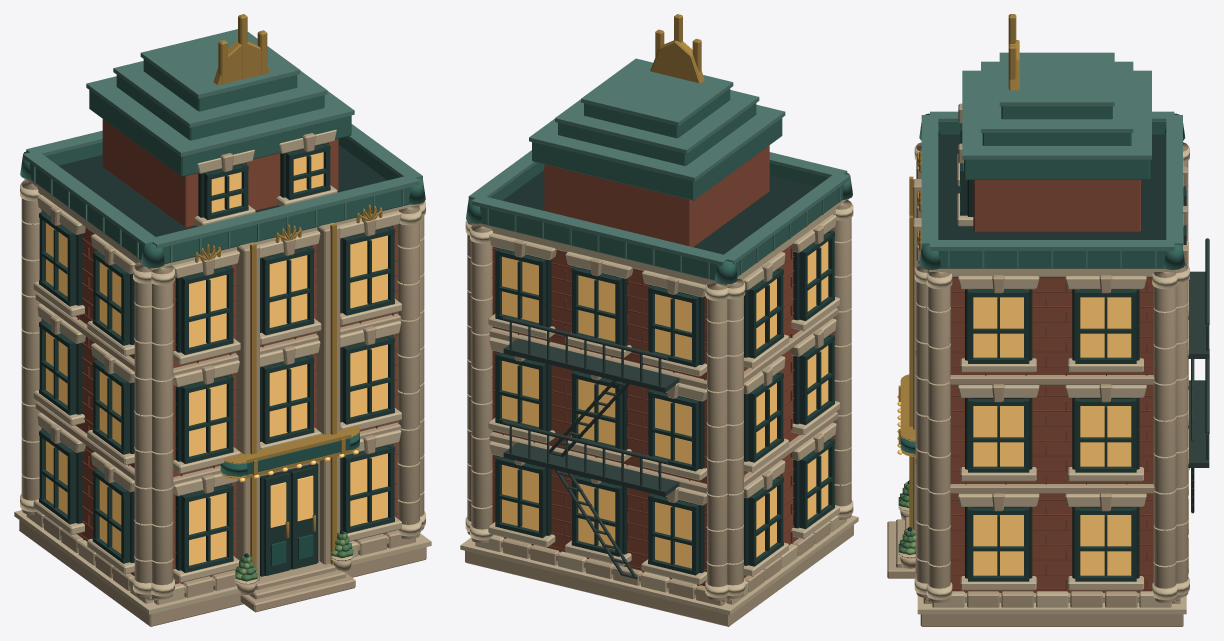
3 views of the same model, side by side, from view 1: azimuth 30°, elevation 25°; view 2: azimuth 150°, elevation 25°; view 3: azimuth 270°, elevation 25° (orthographic). The views are drawn at different scales.
Visible parts, largest first — view 1: expansion_tower_3_geometry; view 2: expansion_tower_3_geometry; view 3: expansion_tower_3_geometry.
Boxes of the visible parts, left/top/right/bottom form: expansion_tower_3_geometry: left=14, top=14, right=431, bottom=626; expansion_tower_3_geometry: left=460, top=14, right=858, bottom=626; expansion_tower_3_geometry: left=887, top=14, right=1209, bottom=626.
Size of the model in its own units: 0.9787 by 1.76 by 0.9443.
